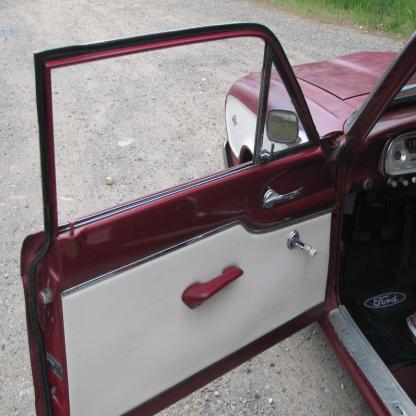Car: (20, 21, 416, 416)
